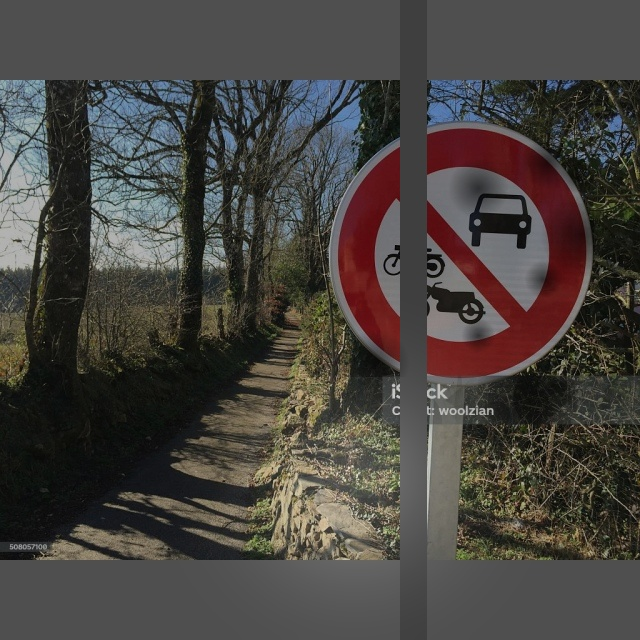All_Motor_Vehicles_Prohibited: (332, 122, 594, 377)
